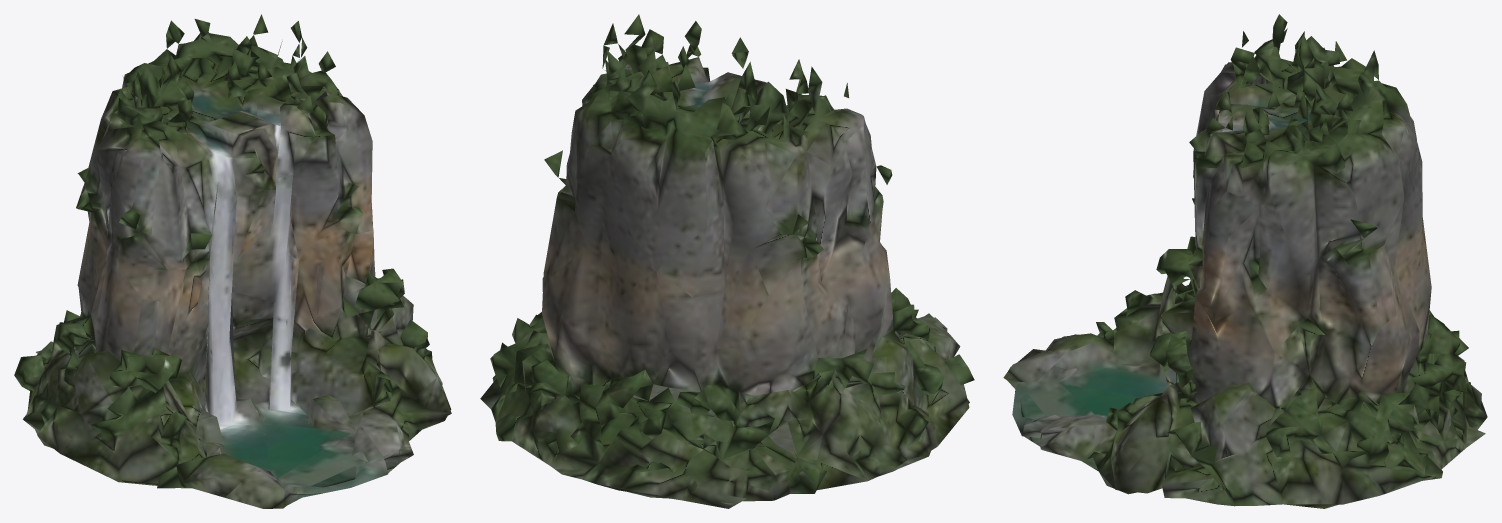
Rendered from av_falls_xfar.glb.
3 views of the same model, side by side, from view 1: azimuth 30°, elevation 25°; view 2: azimuth 150°, elevation 25°; view 3: azimuth 270°, elevation 25° (orthographic). The views are drawn at different scales.
Visible parts, largest first — view 1: av_falls; view 2: av_falls; view 3: av_falls.
Boxes of the visible parts, x1,y1,x2,y2 form: av_falls: (14, 14, 451, 508); av_falls: (480, 14, 974, 508); av_falls: (1003, 14, 1487, 508).
Bounding box in the file's own units: 1.77 × 1.56 × 1.88.
Materials: 1 (1 with a texture image).
